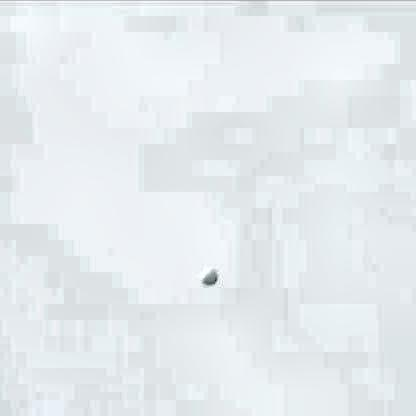golfball: (197, 263, 216, 282)
